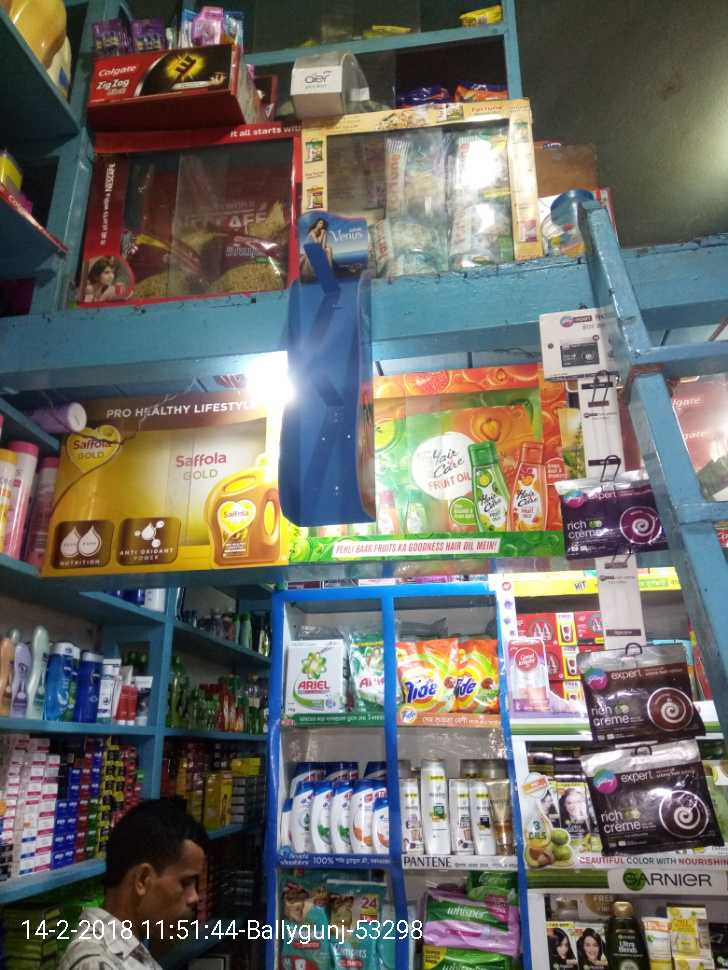beauty: (420, 757, 451, 860), (490, 777, 514, 855), (349, 781, 374, 855), (401, 773, 420, 855), (472, 781, 492, 858), (290, 781, 311, 852), (451, 778, 470, 854), (328, 787, 349, 850), (311, 782, 328, 851), (373, 800, 391, 858)
home: (391, 641, 457, 713), (281, 644, 346, 711), (456, 638, 497, 715), (348, 640, 382, 713)
pharmacy: (408, 893, 523, 950), (324, 886, 388, 970), (280, 878, 330, 970), (609, 600, 614, 602)
